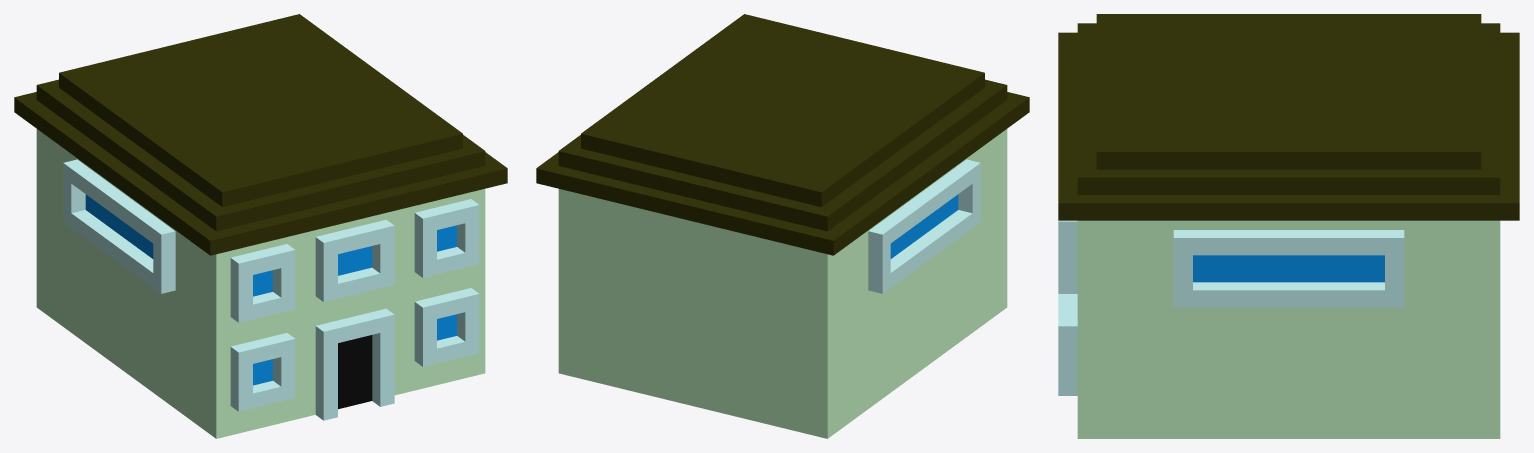
Rendered from casa4.1.fbx.
3 renders of one model, left to right at view 1: azimuth 30°, elevation 25°; view 2: azimuth 150°, elevation 25°; view 3: azimuth 270°, elevation 25°, orthographic. The views are drawn at different scales.
Parts seen in each view (by area): view 1: Cubo.3392; view 2: Cubo.3392; view 3: Cubo.3392.
Part boxes in pixels (box(x1,y1,x2,y2)): Cubo.3392: box(14, 14, 507, 438); Cubo.3392: box(536, 14, 1029, 438); Cubo.3392: box(1058, 14, 1519, 438).
Bounding box in the file's own units: 2100 × 1600 × 2400.
